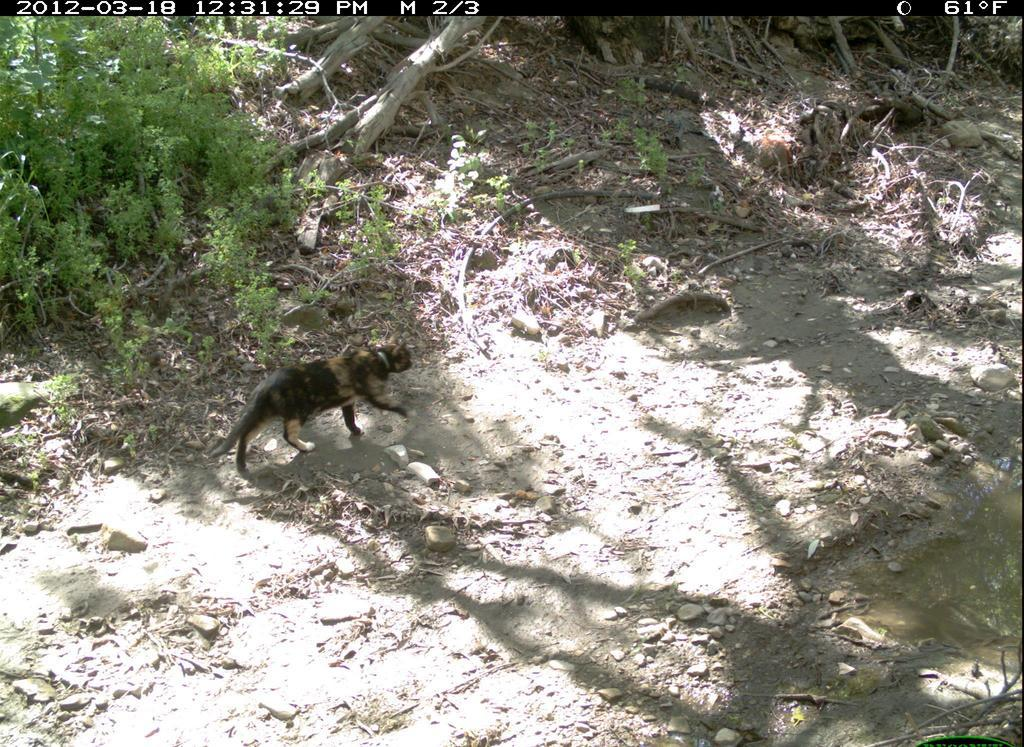cat: (199, 327, 451, 481)
